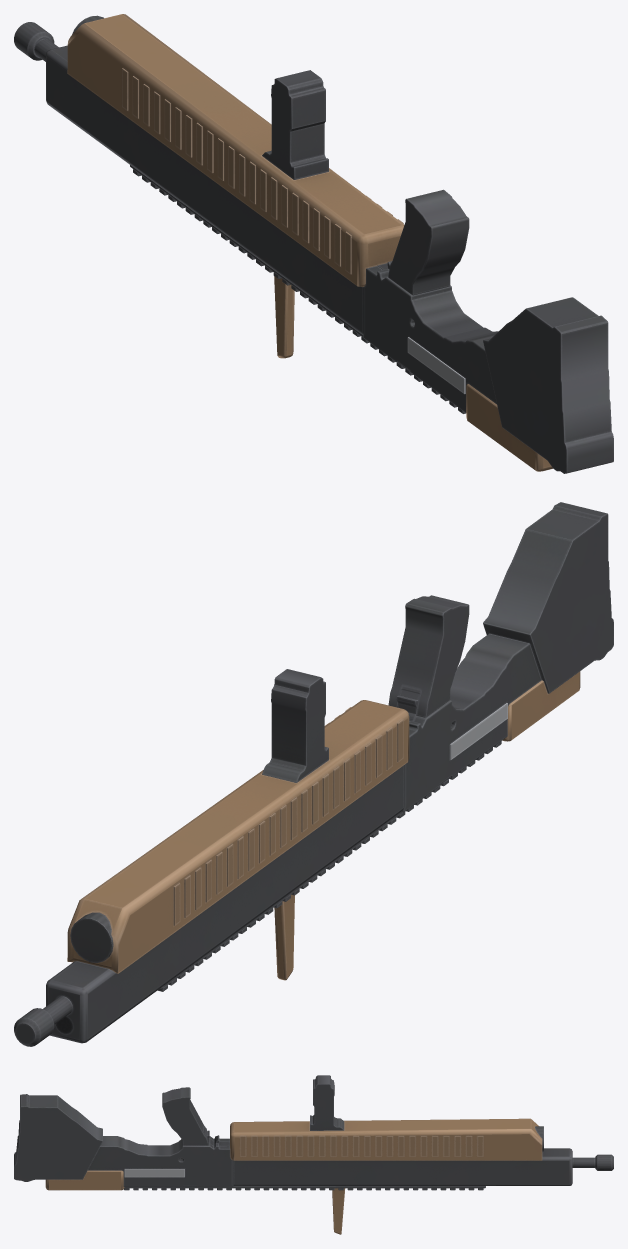
File: AT_RPK101.fbx
3 renders of one model, top to bottom at view 1: azimuth 30°, elevation 25°; view 2: azimuth 150°, elevation 25°; view 3: azimuth 270°, elevation 25°, orthographic. The views are drawn at different scales.
Parts seen in each view (by area): view 1: AT_RPK101_export; view 2: AT_RPK101_export; view 3: AT_RPK101_export.
Boxes of the visible parts, x1=… form: AT_RPK101_export: x1=14, y1=14, x2=613, y2=473; AT_RPK101_export: x1=14, y1=502, x2=613, y2=1046; AT_RPK101_export: x1=14, y1=1075, x2=613, y2=1234.
Size of the model in its own units: 0.0334 by 0.6177 by 0.1753.
